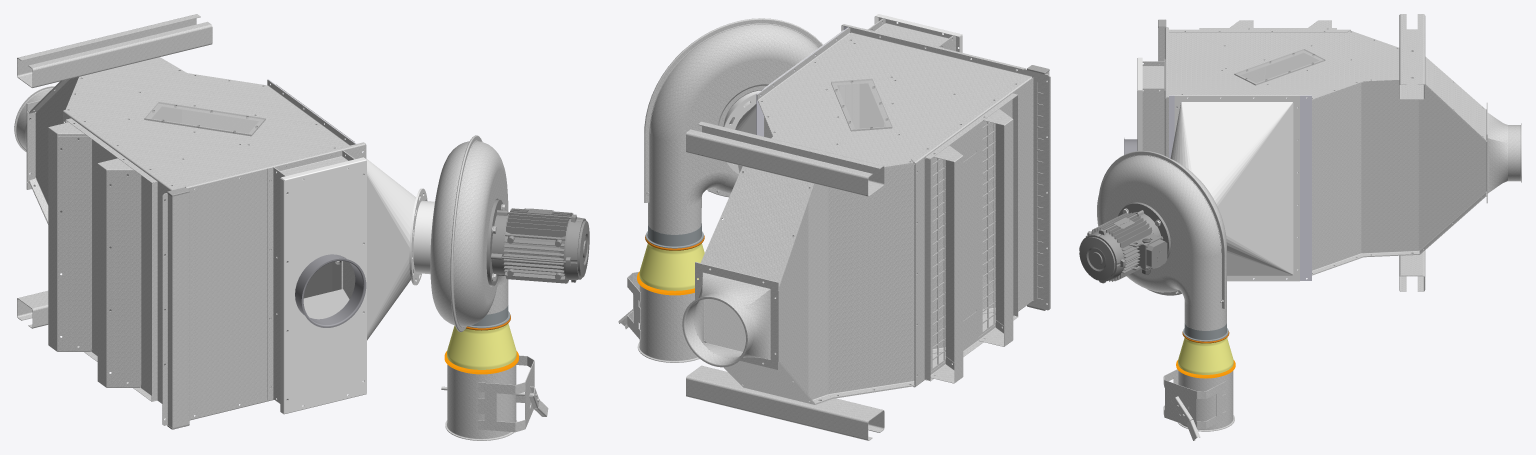
The model's file is NDV40-60.glb.
3 views of the same model, side by side, from view 1: azimuth 30°, elevation 25°; view 2: azimuth 150°, elevation 25°; view 3: azimuth 270°, elevation 25° (orthographic). The views are drawn at different scales.
Visible parts, largest first — view 1: Volumenkörper2 (×17), Volumenkörper3, Volumenkörper1 (×5), Solid1 (×3), Volumenkörper4; view 2: Volumenkörper2 (×16), Volumenkörper1 (×5), Volumenkörper3 (×2), Volumenkörper4; view 3: Volumenkörper2 (×12), Volumenkörper4, Volumenkörper1 (×5), Solid1 (×4), Volumenkörper3.
Part boxes in pixels (x1,y1,x2,y2): Volumenkörper2 (×17): (27,57,548,440); Volumenkörper3: (162,142,366,427); Volumenkörper1 (×5): (14,14,516,369); Solid1 (×3): (486,199,589,285); Volumenkörper4: (281,88,415,254); Volumenkörper2 (×16): (618,14,1049,404); Volumenkörper1 (×5): (639,121,884,440); Volumenkörper3 (×2): (704,24,1050,404); Volumenkörper4: (735,33,839,134); Volumenkörper2 (×12): (1097,29,1487,440); Volumenkörper4: (1170,95,1299,216); Volumenkörper1 (×5): (1178,14,1521,374); Solid1 (×4): (1079,202,1170,283); Volumenkörper3: (1158,27,1168,157).
Size of the model in its own units: 1.39 by 1.11 by 1.6.
Materials: 47 (23 with a texture image).
